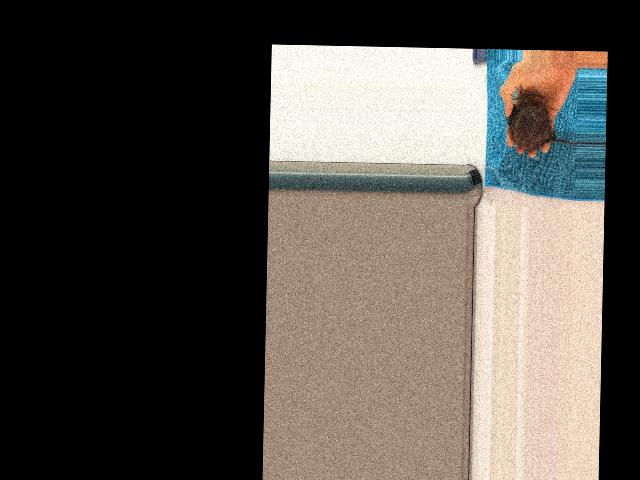beet: (504, 94, 578, 151)
